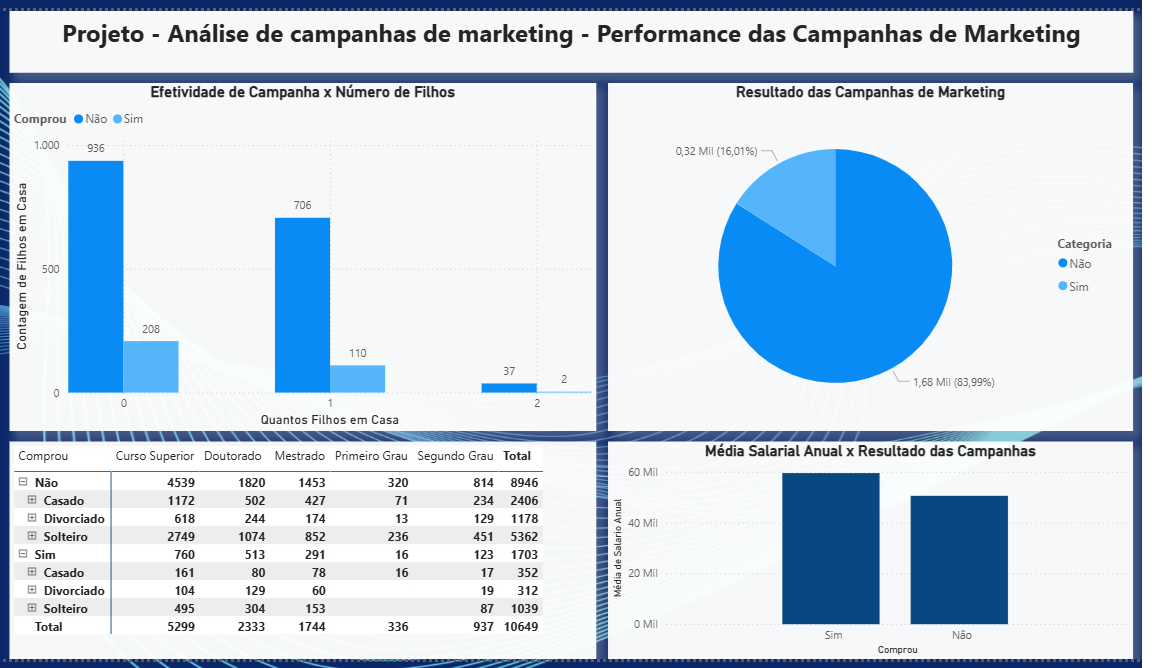

Layout of this report page (visuals, bound fields, positions):
{"tool":"powerbi","page":{"name":"Visão Campanha","canvas":[1280,720],"ordinal":2},"visuals":[{"type":"textbox","box":[18.3,0,1248.3,68.3],"z":0},{"type":"pieChart","title":"Resultado das Campanhas de Marketing","fields":{"Category":["DadosMarketing.Comprou"],"Y":["CountNonNull(DadosMarketing.ID)"]},"box":[683.3,80,583.3,386.7],"z":1000},{"type":"clusteredColumnChart","title":"Média Salarial Anual x Resultado das Campanhas","fields":{"Category":["DadosMarketing.Comprou"],"Y":["Avg(DadosMarketing.Salario Anual)"]},"box":[683.3,478.3,583.3,241.7],"z":2000},{"type":"pivotTable","fields":{"Values":["Sum(DadosMarketing.Numero Visitas WebSite Mes)"],"Columns":["DadosMarketing.Escolaridade"],"Rows":["DadosMarketing.Comprou","DadosMarketing.Estado Civil","DadosMarketing.Pais"]},"box":[18.3,478.3,651.7,241.7],"z":3000},{"type":"clusteredColumnChart","title":"Efetividade de Campanha x Número de Filhos","fields":{"Category":["DadosMarketing.Filhos em Casa"],"Series":["DadosMarketing.Comprou"],"Y":["CountNonNull(DadosMarketing.Filhos em Casa)"]},"box":[18.3,80,651.7,386.7],"z":4000}]}

Visuals, with their boxes in screenshot pixels (x1, y1, x2, y2), scaled from the page's 1280x720 canvas onto the 1152x668 screenshot:
textbox: 16/0/1140/63
"Resultado das Campanhas de Marketing" pieChart: 615/74/1140/433
"Média Salarial Anual x Resultado das Campanhas" clusteredColumnChart: 615/444/1140/667
pivotTable - Sum(DadosMarketing.Numero Visitas WebSite Mes) x DadosMarketing.Escolaridade: 16/444/603/667
"Efetividade de Campanha x Número de Filhos" clusteredColumnChart: 16/74/603/433
